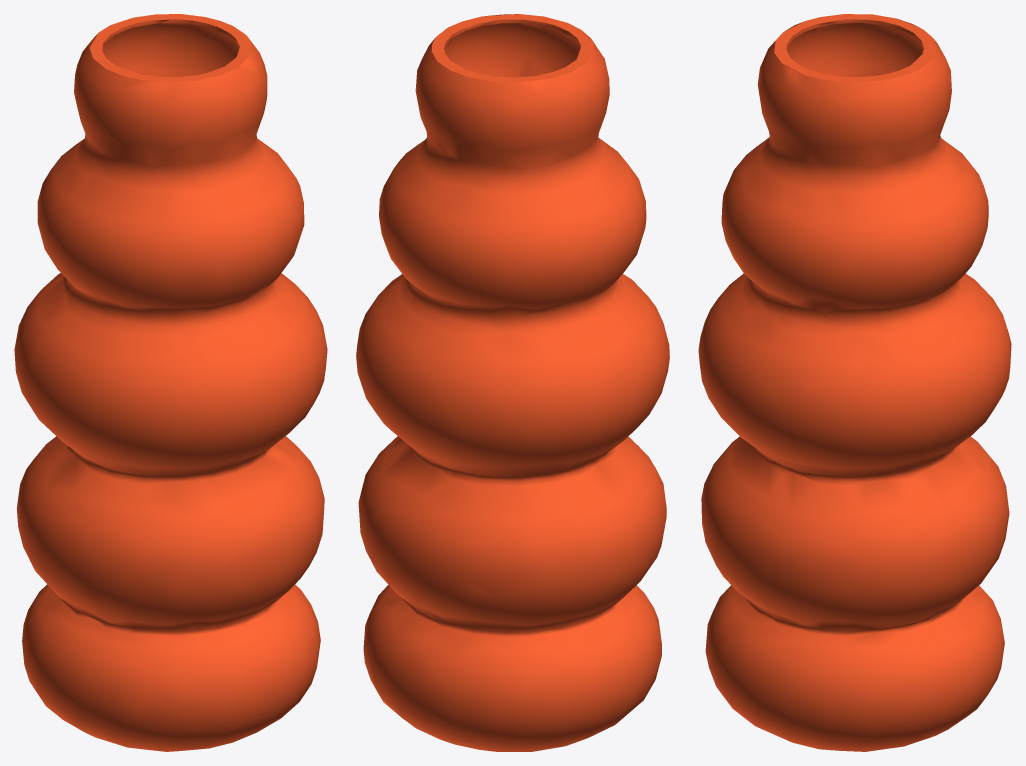
3 renders of one model, left to right at view 1: azimuth 30°, elevation 25°; view 2: azimuth 150°, elevation 25°; view 3: azimuth 270°, elevation 25°, orthographic.
Visible parts, largest first — view 1: kallarhals-vase-26.001; view 2: kallarhals-vase-26.001; view 3: kallarhals-vase-26.001.
Part boxes in pixels (x1,y1,x2,y2): kallarhals-vase-26.001: [14, 14, 327, 751]; kallarhals-vase-26.001: [356, 14, 669, 751]; kallarhals-vase-26.001: [698, 14, 1011, 751].
Bounding box in the file's own units: 0.1096 × 0.26 × 0.1095.
